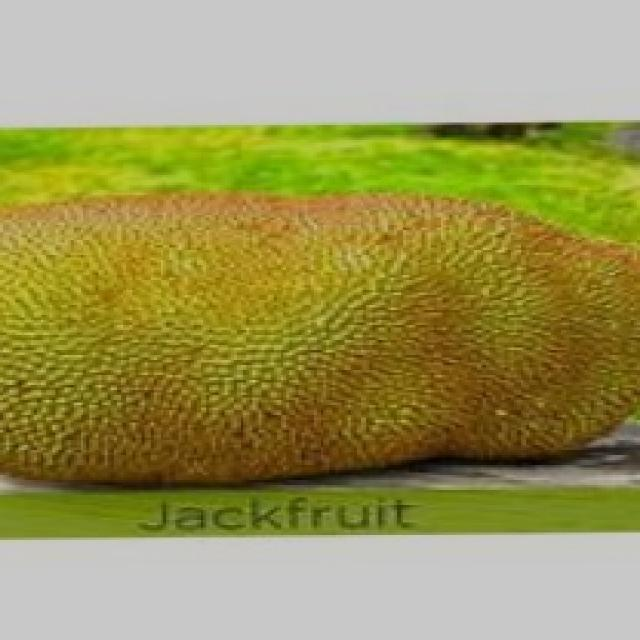Fruit: (0, 152, 403, 520), (243, 152, 640, 508)
